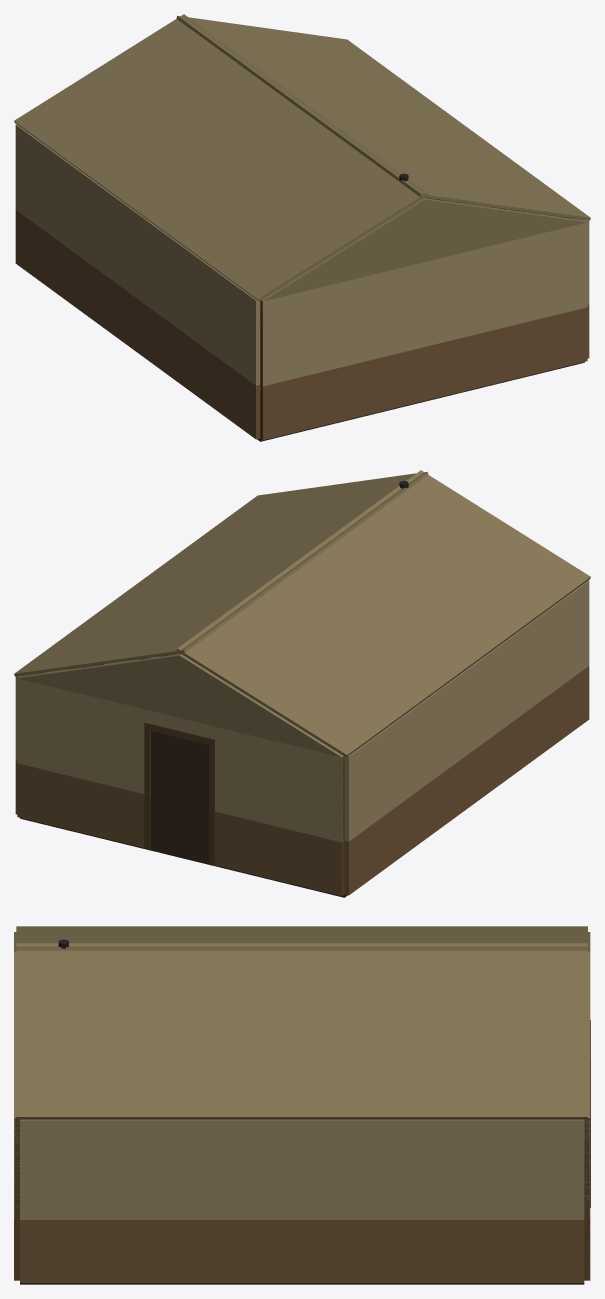
File: BunkRoomA.glb
3 renders of one model, top to bottom at view 1: azimuth 30°, elevation 25°; view 2: azimuth 150°, elevation 25°; view 3: azimuth 270°, elevation 25°, orthographic. The views are drawn at different scales.
Parts seen in each view (by area): view 1: BunkRoomA; view 2: BunkRoomA; view 3: BunkRoomA.
Boxes of the visible parts, <box> form: BunkRoomA: <box>14,14,590,441</box>; BunkRoomA: <box>14,470,590,897</box>; BunkRoomA: <box>14,926,590,1284</box>.
Bounding box in the file's own units: 6.16 × 3.76 × 7.87.
